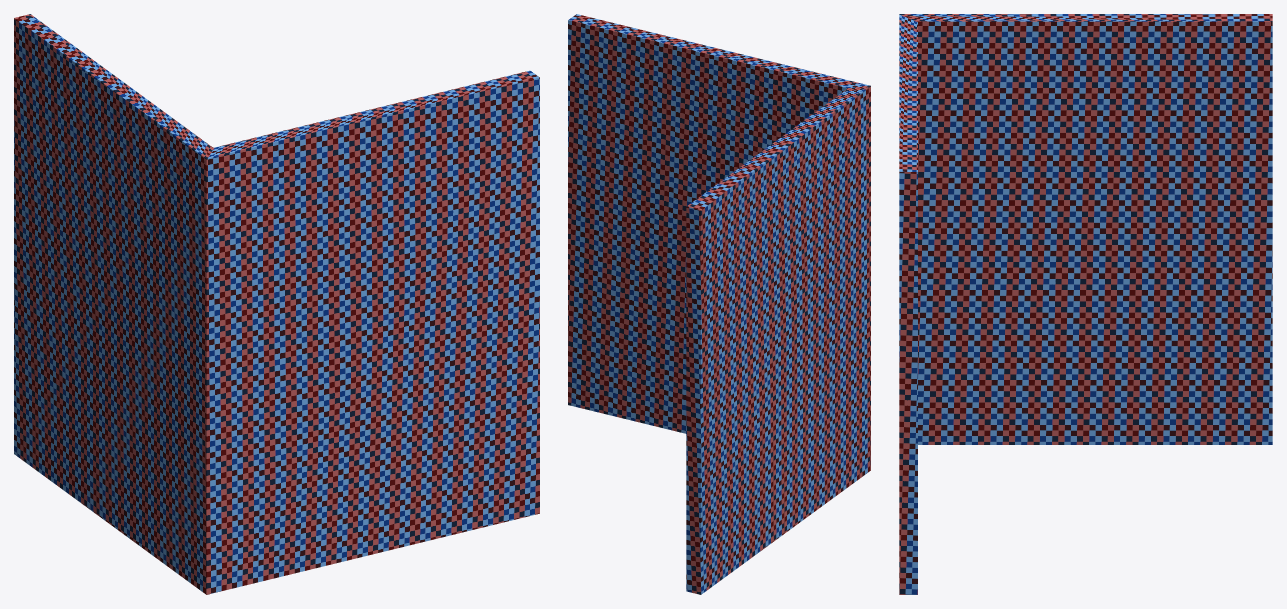
The model's file is Smallwall_Half_Turn_01.fbx.
3 views of the same model, side by side, from view 1: azimuth 30°, elevation 25°; view 2: azimuth 150°, elevation 25°; view 3: azimuth 270°, elevation 25° (orthographic). The views are drawn at different scales.
Visible parts, largest first — view 1: Smallwall_Half_Turn_01; view 2: Smallwall_Half_Turn_01; view 3: Smallwall_Half_Turn_01.
Part boxes in pixels (left/top/right/bottom): Smallwall_Half_Turn_01: left=14, top=14, right=539, bottom=594; Smallwall_Half_Turn_01: left=568, top=14, right=870, bottom=594; Smallwall_Half_Turn_01: left=899, top=14, right=1272, bottom=594.
Size of the model in its own units: 200 by 250 by 200.
1 material, 1 textured.
